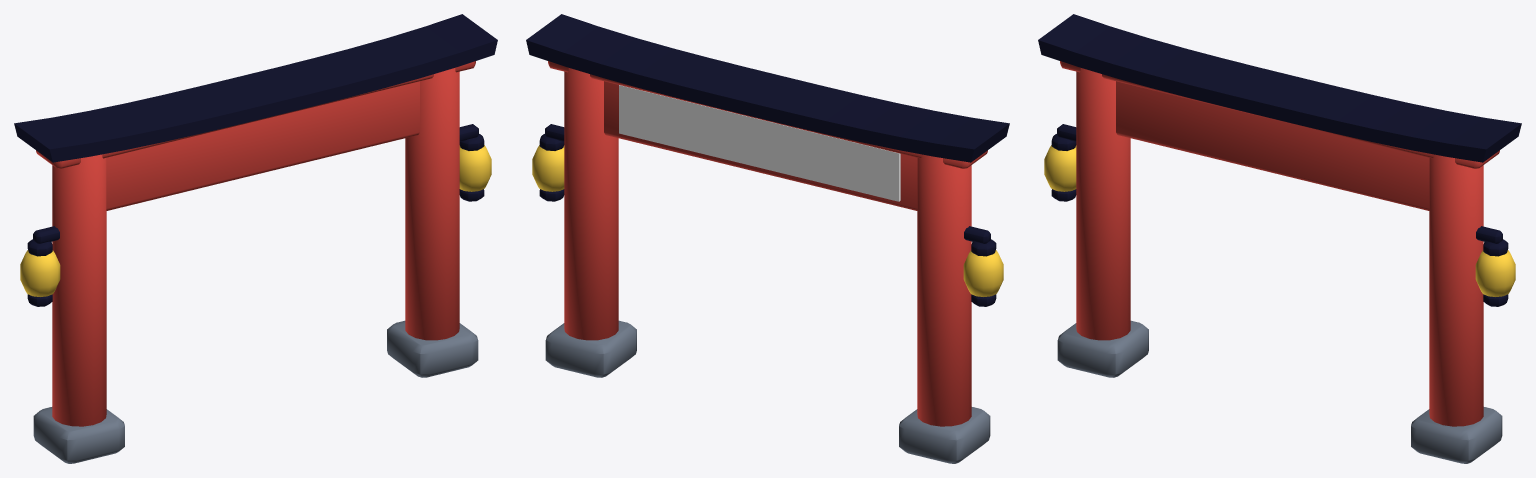
File: Plot_NameArch.glb
3 views of the same model, side by side, from view 1: azimuth 30°, elevation 25°; view 2: azimuth 150°, elevation 25°; view 3: azimuth 330°, elevation 25° (orthographic).
Parts seen in each view (by area): view 1: Red_E0453C, Ink_0D0F2B (×2), Base_6B7686, Lantern_FFD23F; view 2: Red_E0453C, Ink_0D0F2B (×2), Face_FFFFFF, Base_6B7686, Lantern_FFD23F; view 3: Red_E0453C, Ink_0D0F2B (×2), Base_6B7686, Lantern_FFD23F.
Boxes of the visible parts, x1,y1,x2,y2 form: Red_E0453C: [36, 61, 475, 426]; Ink_0D0F2B (×2): [14, 14, 497, 306]; Base_6B7686: [33, 320, 478, 463]; Lantern_FFD23F: [20, 145, 491, 296]; Red_E0453C: [548, 61, 987, 426]; Ink_0D0F2B (×2): [526, 14, 1009, 306]; Face_FFFFFF: [619, 85, 900, 201]; Base_6B7686: [545, 320, 990, 463]; Lantern_FFD23F: [532, 145, 1003, 296]; Red_E0453C: [1060, 61, 1499, 426]; Ink_0D0F2B (×2): [1038, 14, 1521, 306]; Base_6B7686: [1057, 320, 1502, 463]; Lantern_FFD23F: [1044, 145, 1515, 296].
Bounding box in the file's own units: 16.64 × 11 × 2.3.
